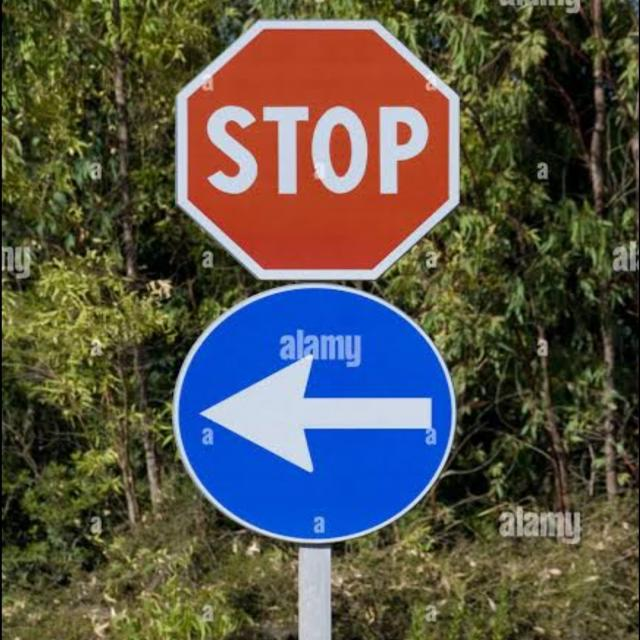Turn Left: (174, 287, 461, 546)
